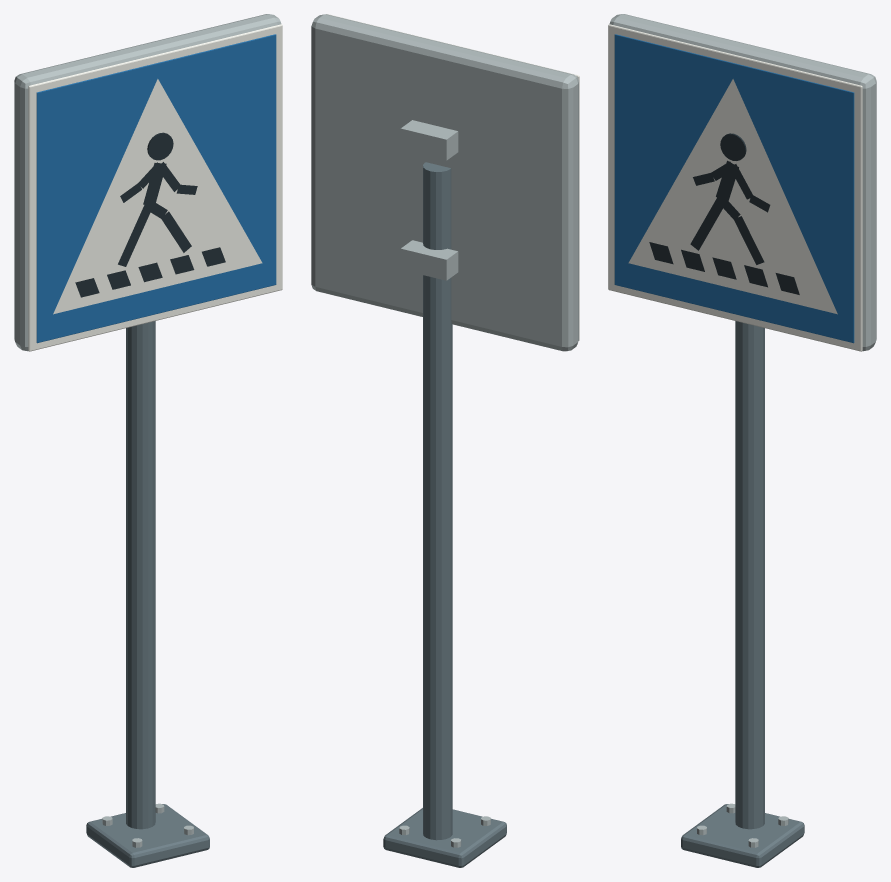
Rendered from SIMUS_Sign_Crosswalk.fbx.
The picture shows the model from 3 angles, left to right: view 1: azimuth 30°, elevation 25°; view 2: azimuth 150°, elevation 25°; view 3: azimuth 330°, elevation 25°; orthographic projection.
Parts seen in each view (by area): view 1: Blue face.001, Triangle, Post.004, White border.001, Board back.001, Foot plate.004, Walker legs, Walker head; view 2: Board back.001, Post.004, Foot plate.004, Rear clamp.009, Rear clamp.008, White border.001; view 3: Blue face.001, Triangle, Post.004, White border.001, Board back.001, Foot plate.004, Walker legs, Walker head.
Part boxes in pixels (bbox=[...]): Blue face.001: bbox=[36, 34, 276, 343]; Triangle: bbox=[53, 79, 262, 314]; Post.004: bbox=[126, 321, 155, 829]; White border.001: bbox=[28, 24, 282, 351]; Board back.001: bbox=[14, 14, 281, 351]; Foot plate.004: bbox=[86, 804, 209, 867]; Walker legs: bbox=[118, 204, 152, 266]; Walker head: bbox=[147, 132, 173, 160]; Board back.001: bbox=[311, 14, 578, 351]; Post.004: bbox=[423, 162, 452, 840]; Foot plate.004: bbox=[383, 808, 506, 867]; Rear clamp.009: bbox=[400, 120, 458, 160]; Rear clamp.008: bbox=[400, 240, 458, 280]; White border.001: bbox=[326, 14, 579, 340]; Blue face.001: bbox=[614, 34, 854, 343]; Triangle: bbox=[628, 79, 837, 314]; Post.004: bbox=[735, 321, 764, 829]; White border.001: bbox=[608, 24, 862, 351]; Board back.001: bbox=[609, 14, 876, 351]; Foot plate.004: bbox=[681, 804, 804, 867]; Walker legs: bbox=[690, 197, 725, 250]; Walker head: bbox=[720, 133, 746, 160].
Size of the model in its own units: 91 by 266 by 28.
